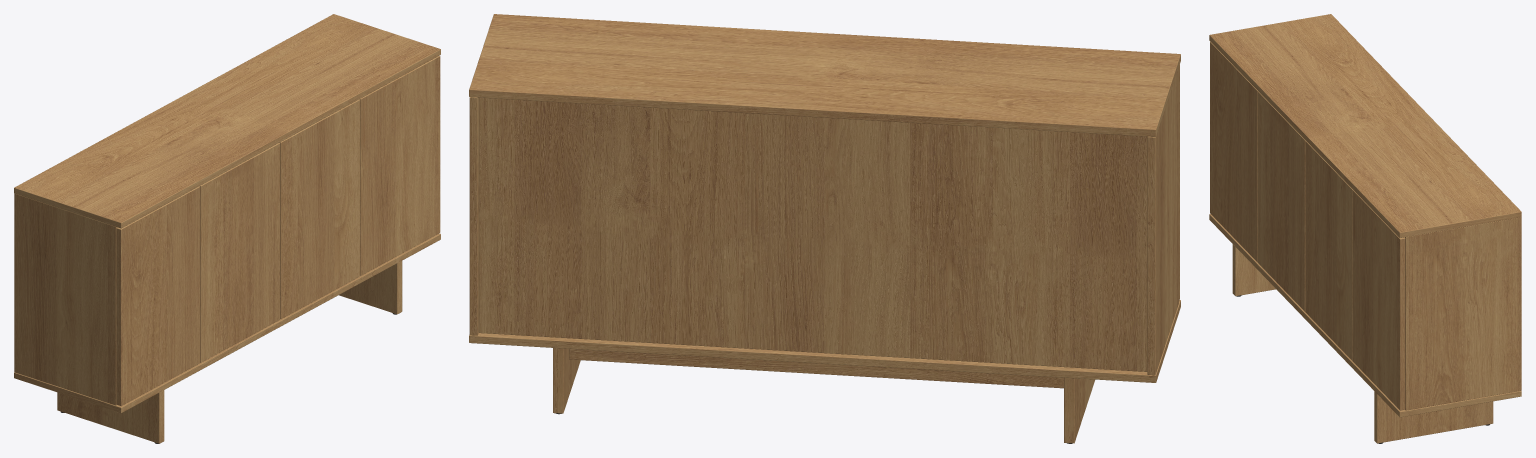
The model's file is Commode.glb.
3 views of the same model, side by side, from view 1: azimuth 30°, elevation 25°; view 2: azimuth 150°, elevation 25°; view 3: azimuth 270°, elevation 25° (orthographic). The views are drawn at different scales.
Parts seen in each view (by area): view 1: STOCKHOLM_Sideboard; view 2: STOCKHOLM_Sideboard; view 3: STOCKHOLM_Sideboard.
Part boxes in pixels (x1,y1,x2,y2): STOCKHOLM_Sideboard: (14,14,440,443); STOCKHOLM_Sideboard: (469,14,1180,443); STOCKHOLM_Sideboard: (1209,14,1521,443).
Size of the model in its own units: 1.65 by 0.83 by 0.995.
1 material, 1 textured.
